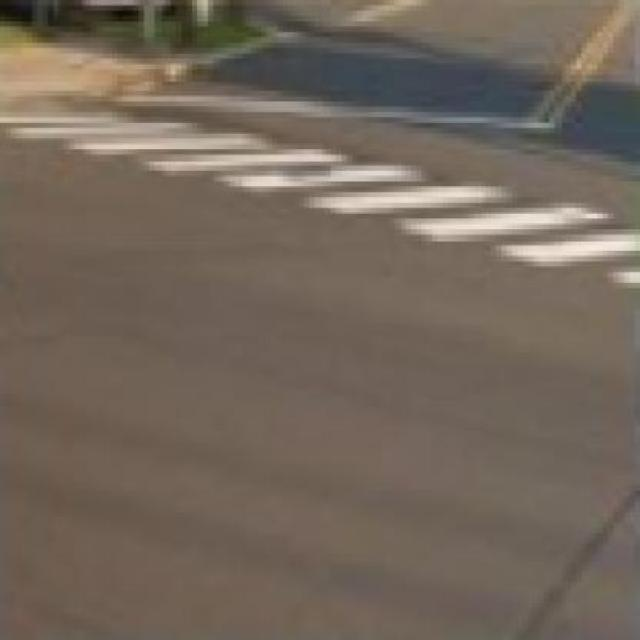crosswalk: (1, 111, 640, 293)
